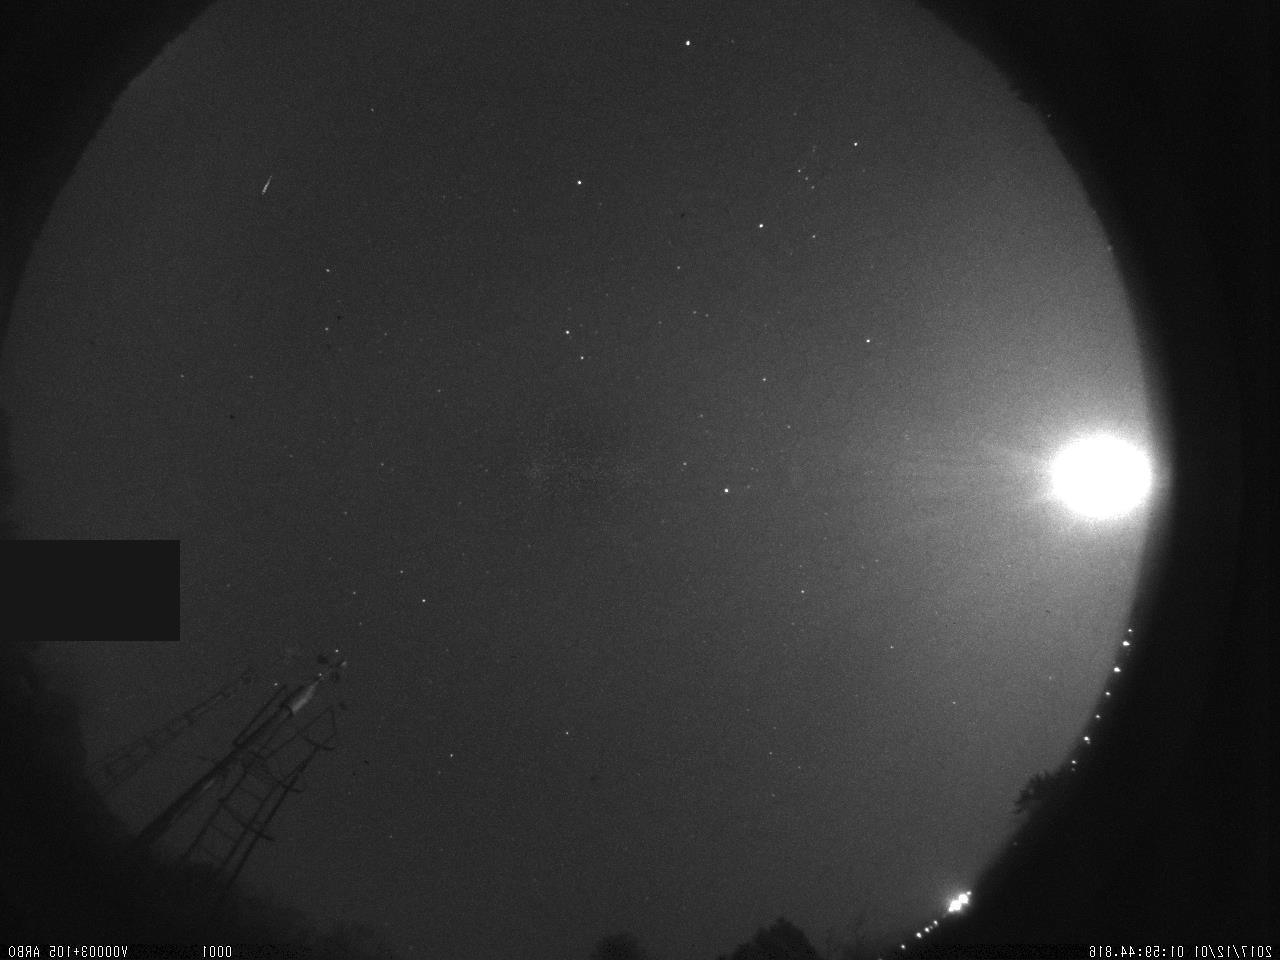meteor: (247, 156, 288, 212)
